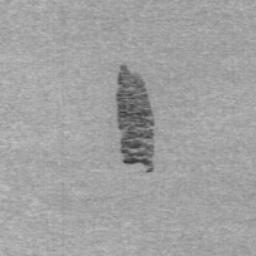Secondary rust skin: (116, 64, 156, 173)
